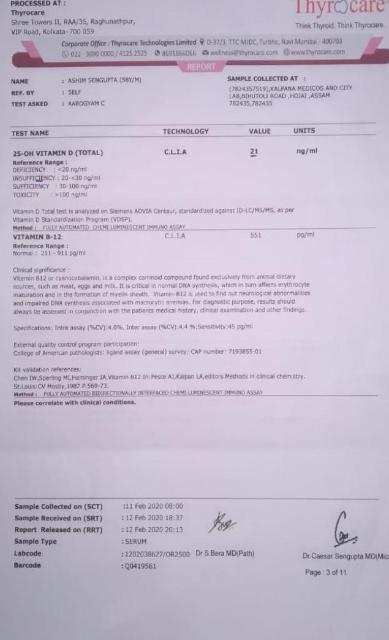Clinical_Conditions: (11, 274, 313, 316)
Name: (67, 76, 143, 84)
Ref_By: (67, 87, 83, 96)
Technology: (163, 144, 189, 159), (164, 231, 189, 242)
Test_Asked: (67, 99, 107, 108)
Test_Name: (11, 147, 108, 200), (13, 232, 94, 261)
Unit: (294, 146, 322, 159), (295, 229, 320, 242)
Value: (249, 146, 262, 159), (249, 230, 264, 241)
